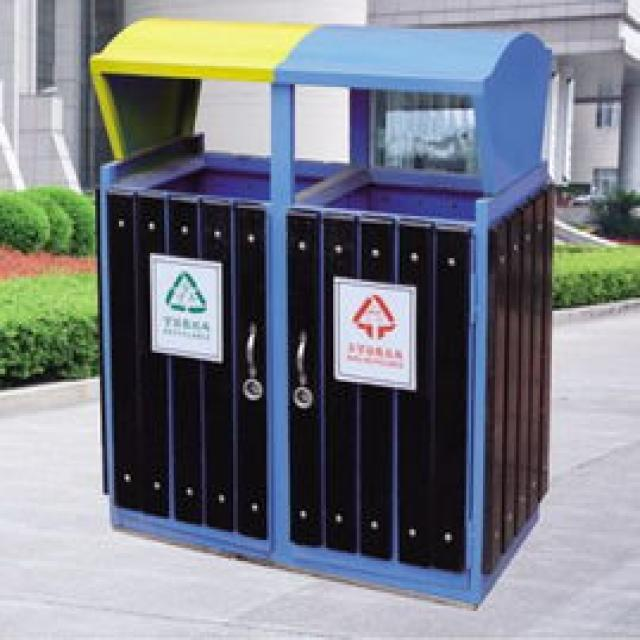garbage_bin: (83, 13, 554, 601)
